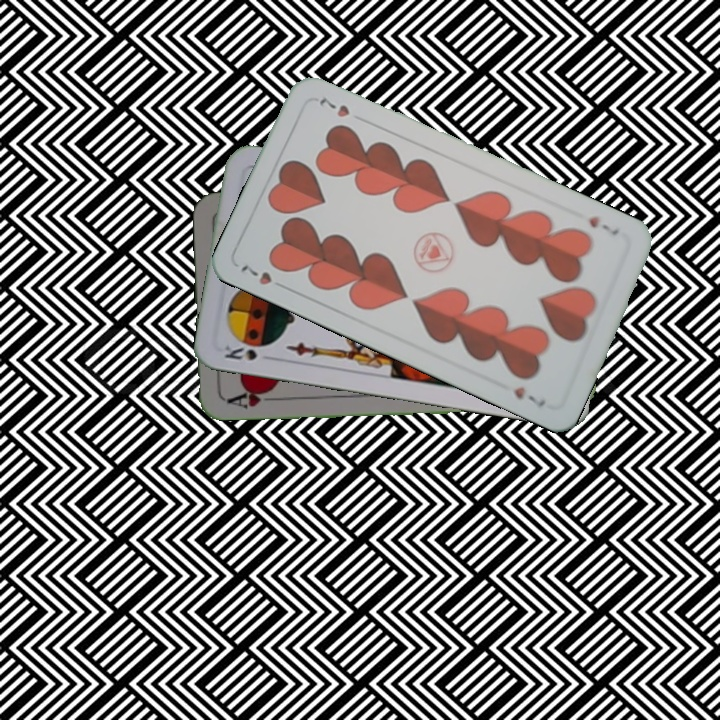H7: (236, 260, 290, 293), (584, 211, 622, 238)
HA: (222, 384, 280, 411)
SK: (219, 340, 260, 364)
